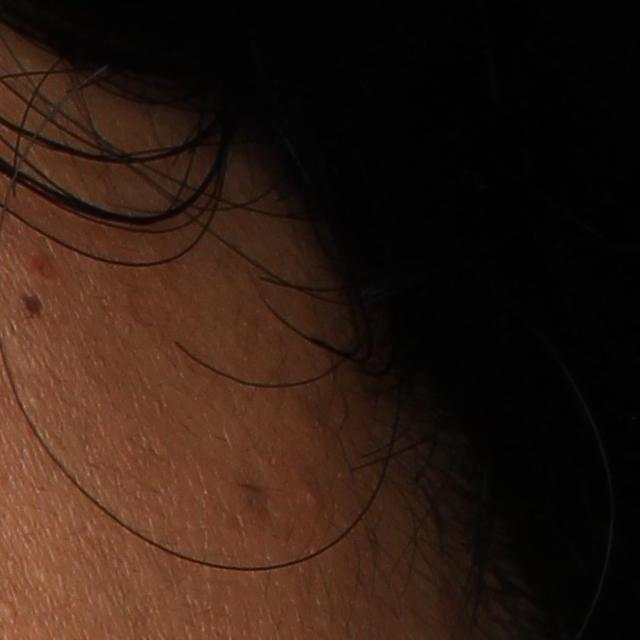nevus: (22, 286, 48, 319)
